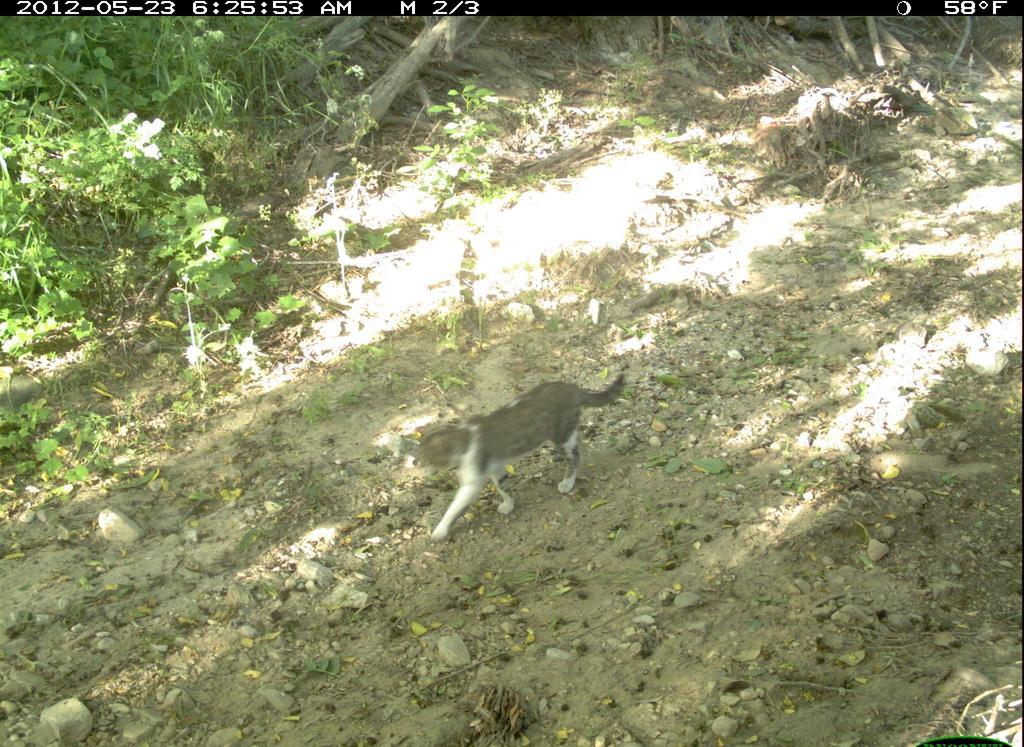cat: (395, 368, 630, 542)
